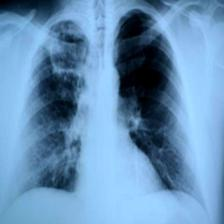tuberculosis: (11, 3, 208, 224)
